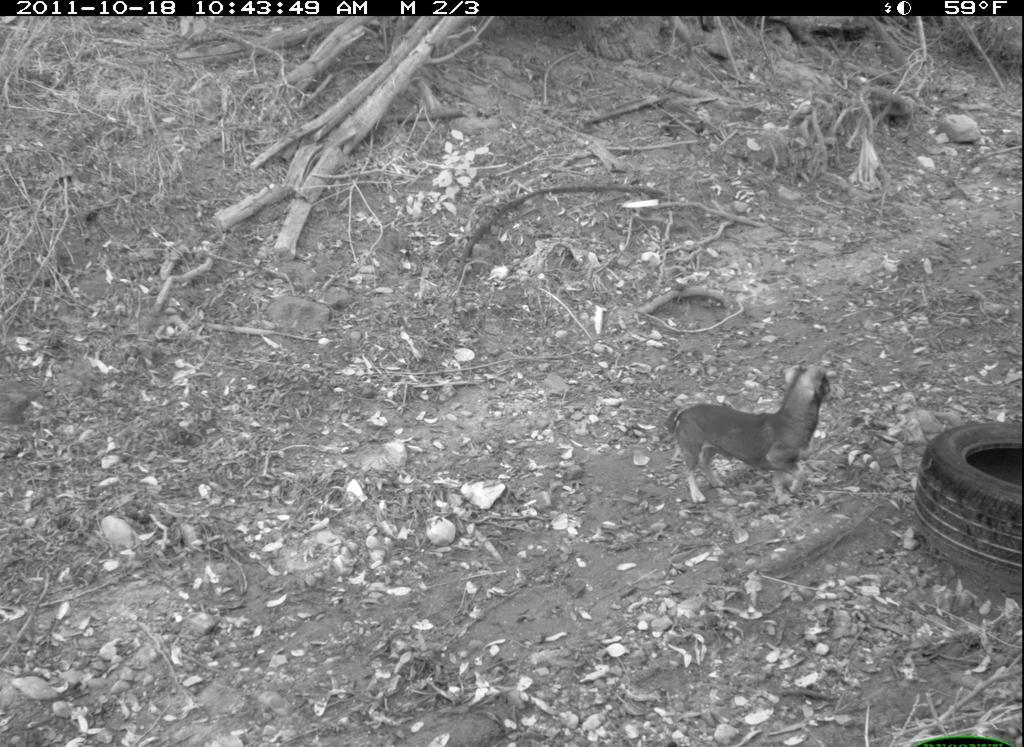dog: (658, 328, 849, 546)
